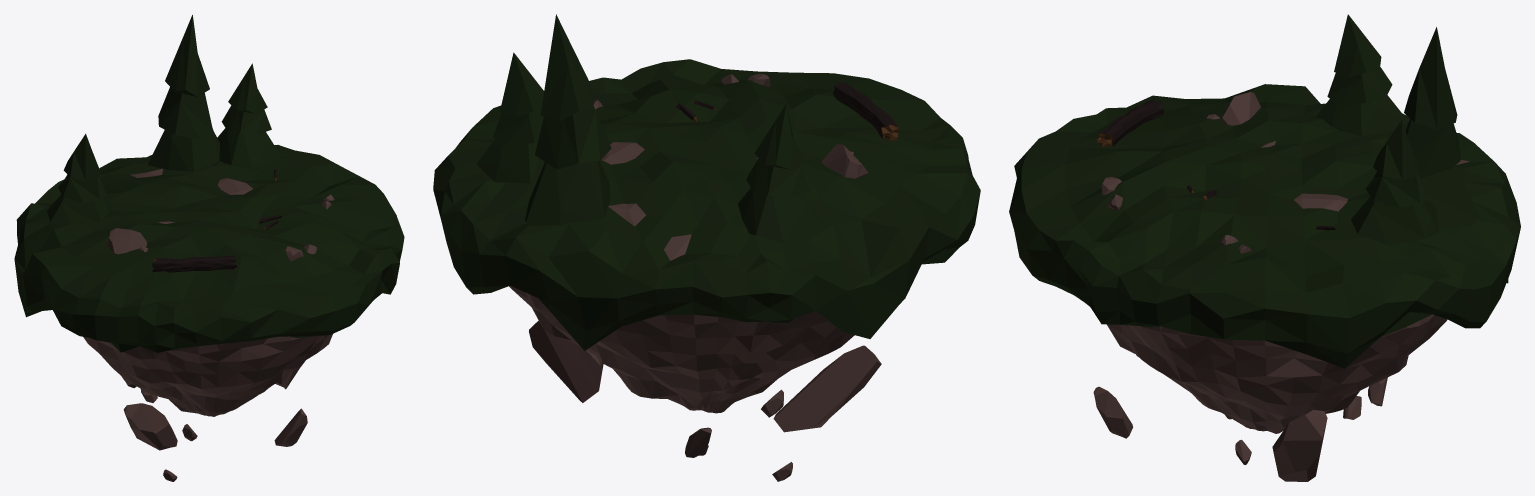
The model's file is forest_sun.dae.
3 views of the same model, side by side, from view 1: azimuth 30°, elevation 25°; view 2: azimuth 150°, elevation 25°; view 3: azimuth 270°, elevation 25° (orthographic). The views are drawn at different scales.
Visible parts, largest first — view 1: Plane_001, Plane, Cube_002, Cube_001, Cube_003, Cube_017, Cube_004, Cube_008, Cube_014; view 2: Plane_001, Plane, Cube_002, Cube_003, Cube_001, Cube_017, Cube_020, Cube_004, Cube_008, Cube_015; view 3: Plane_001, Plane, Cube_002, Cube_001, Cube_003, Cube_020, Cube_004, Cube_014, Cube_008.
Part boxes in pixels (x1,y1,x2,y2): Plane_001: (14,145,404,352); Plane: (83,168,332,416); Cube_002: (148,15,220,171); Cube_001: (217,63,281,170); Cube_003: (47,133,112,225); Cube_017: (123,403,177,450); Cube_004: (152,255,236,272); Cube_008: (107,228,147,254); Cube_014: (274,408,307,446); Plane_001: (433,59,980,350); Plane: (509,142,854,413); Cube_002: (525,14,611,225); Cube_003: (738,104,822,243); Cube_001: (476,52,544,182); Cube_017: (773,345,881,432); Cube_020: (529,320,603,402); Cube_004: (833,82,898,140); Cube_008: (821,144,868,178); Cube_015: (685,427,711,457); Plane_001: (1009,84,1520,368); Plane: (1085,141,1469,433); Cube_002: (1404,27,1480,227); Cube_001: (1351,120,1438,245); Cube_003: (1315,14,1407,136); Cube_020: (1272,410,1327,481); Cube_004: (1097,99,1164,147); Cube_014: (1093,386,1132,438); Cube_008: (1220,92,1260,125).
Bounding box in the file's own units: 47.29 × 47.29 × 50.76.
